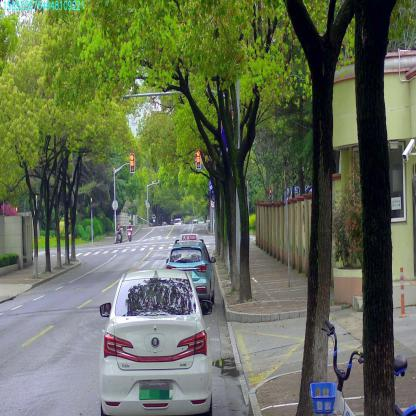traffic-light: (130, 153, 135, 172), (196, 151, 200, 168)
